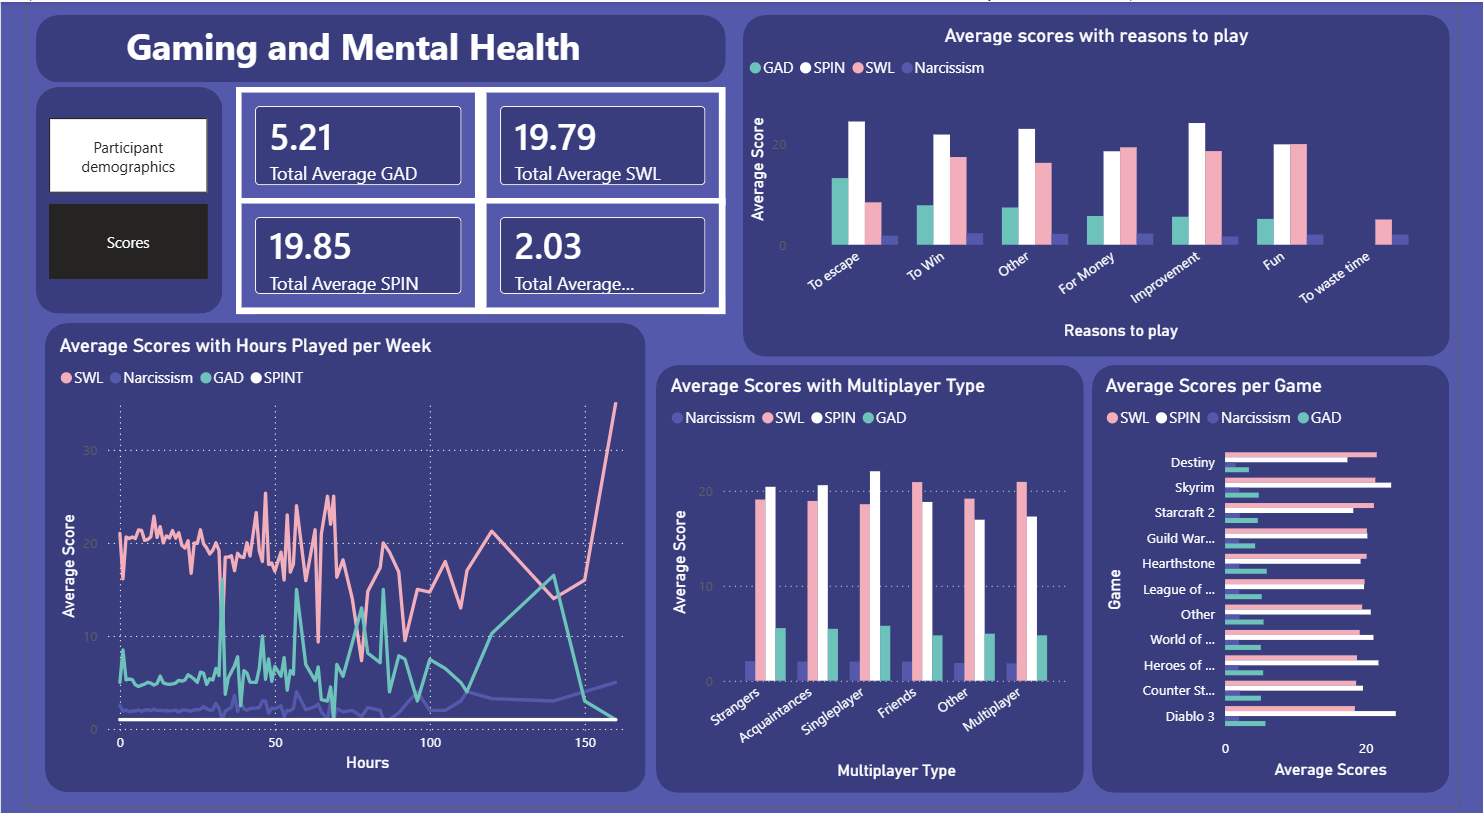

What the dashboard file says about the page in this screenshot:
{"tool":"powerbi","page":{"name":"Scores","canvas":[1280,720],"ordinal":1},"visuals":[{"type":"shape","box":[7,76,167,203],"z":0},{"type":"shape","box":[6.8,11.7,617.6,60.3],"z":1000},{"type":"shape","box":[640,12,633,306],"z":2000},{"type":"shape","box":[185.9,83.9,438.7,195.8],"z":3000},{"type":"shape","box":[953.2,324.9,320,383.2],"z":4000},{"type":"shape","box":[562.2,324.9,383.2,383.2],"z":5000},{"type":"shape","box":[15.6,287.9,537.9,420.2],"z":6000},{"type":"clusteredColumnChart","title":"Average scores with reasons to play","fields":{"Category":["earnings with scores MySQL.Reasons_to_play"],"Y":["Sum(earnings with scores MySQL.AVG(`GADT`))","Sum(earnings with scores MySQL.AVG(`SPINT`))","Sum(earnings with scores MySQL.AVG(`SWLT`))","Sum(earnings with scores MySQL.AVG(Narcissism))"]},"box":[640,20,633,288],"z":7000},{"type":"clusteredBarChart","title":"Average Scores per Game","fields":{"Category":["Game with scores MySQL.Game"],"Y":["Sum(Game with scores MySQL.AVG(SWLT))","Sum(Game with scores MySQL.AVG(SPINT))","Sum(Game with scores MySQL.AVG(Narcissism))","Sum(Game with scores MySQL.AVG(GADT))"]},"box":[960,333,313,367],"z":8000},{"type":"lineChart","title":"Average Scores with Hours Played per Week","fields":{"Y":["Sum(Hours with score MySQL.AVG(SWLT))","Sum(Hours with score MySQL.AVG(Narcissism))","Sum(Hours with score MySQL.AVG(GADT))","CountNonNull(Hours with score MySQL.AVG(SPINT))"],"Category":["Hours with score MySQL.Hours"]},"box":[23,297,518,397],"z":9000},{"type":"clusteredColumnChart","title":"Average Scores with Multiplayer Type","fields":{"Category":["mulitplayer types with scores MySQL.Multiplayer_type"],"Y":["Sum(mulitplayer types with scores MySQL.AVG(Narcissism))","Sum(mulitplayer types with scores MySQL.AVG(`SWLT`))","Sum(mulitplayer types with scores MySQL.AVG(`SPINT`))","Sum(mulitplayer types with scores MySQL.AVG(`GADT`))"]},"box":[570,333,367,368],"z":10000},{"type":"cardVisual","fields":{"Data":["260115_gaming_demodetails_v1.Total Average GAD"]},"box":[185.9,75.9,219.8,105.9],"z":11000},{"type":"cardVisual","fields":{"Data":["260115_gaming_demodetails_v1.Total Average SWL"]},"box":[405.7,75.9,218.8,105.9],"z":12000},{"type":"cardVisual","fields":{"Data":["260115_gaming_demodetails_v1.Total Average SPIN"]},"box":[185.9,175.9,219.8,103.9],"z":13000},{"type":"cardVisual","fields":{"Data":["Sheet2 (2).Total Average Narcissism"]},"box":[405.7,175.9,218.8,103.9],"z":14000},{"type":"pageNavigator","box":[19,104,142,144],"z":15000},{"type":"textbox","box":[83,12,434,60],"z":15001}]}

Visuals, with their boxes in screenshot pixels (x1, y1, x2, y2), scaled from the page's 1280x720 canvas onto the 1483x813 screenshot:
shape: (8,86,202,315)
shape: (8,13,723,81)
shape: (742,14,1475,359)
shape: (215,95,724,316)
shape: (1104,367,1475,800)
shape: (651,367,1095,800)
shape: (18,325,641,800)
"Average scores with reasons to play" clusteredColumnChart: (742,23,1475,348)
"Average Scores per Game" clusteredBarChart: (1112,376,1475,790)
"Average Scores with Hours Played per Week" lineChart: (27,335,627,784)
"Average Scores with Multiplayer Type" clusteredColumnChart: (660,376,1086,792)
cardVisual - 260115_gaming_demodetails_v1.Total Average GAD: (215,86,470,205)
cardVisual - 260115_gaming_demodetails_v1.Total Average SWL: (470,86,724,205)
cardVisual - 260115_gaming_demodetails_v1.Total Average SPIN: (215,199,470,316)
cardVisual - Sheet2 (2).Total Average Narcissism: (470,199,724,316)
pageNavigator: (22,117,187,280)
textbox: (96,14,599,81)
